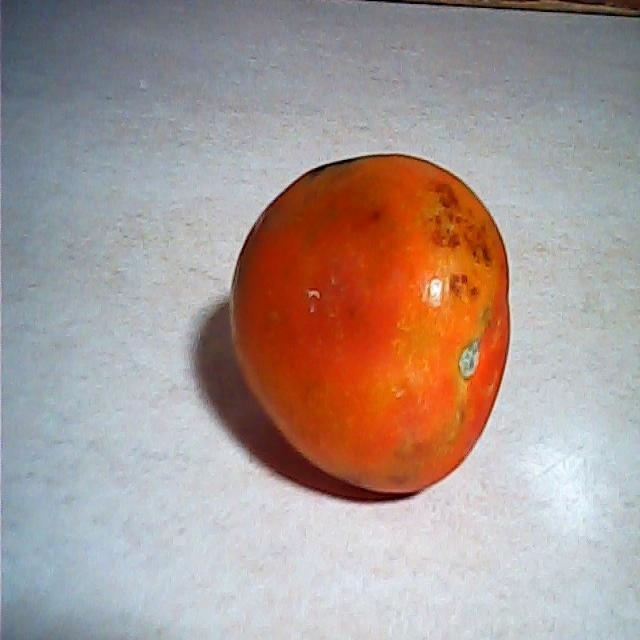defectuoso: (208, 151, 512, 501)
